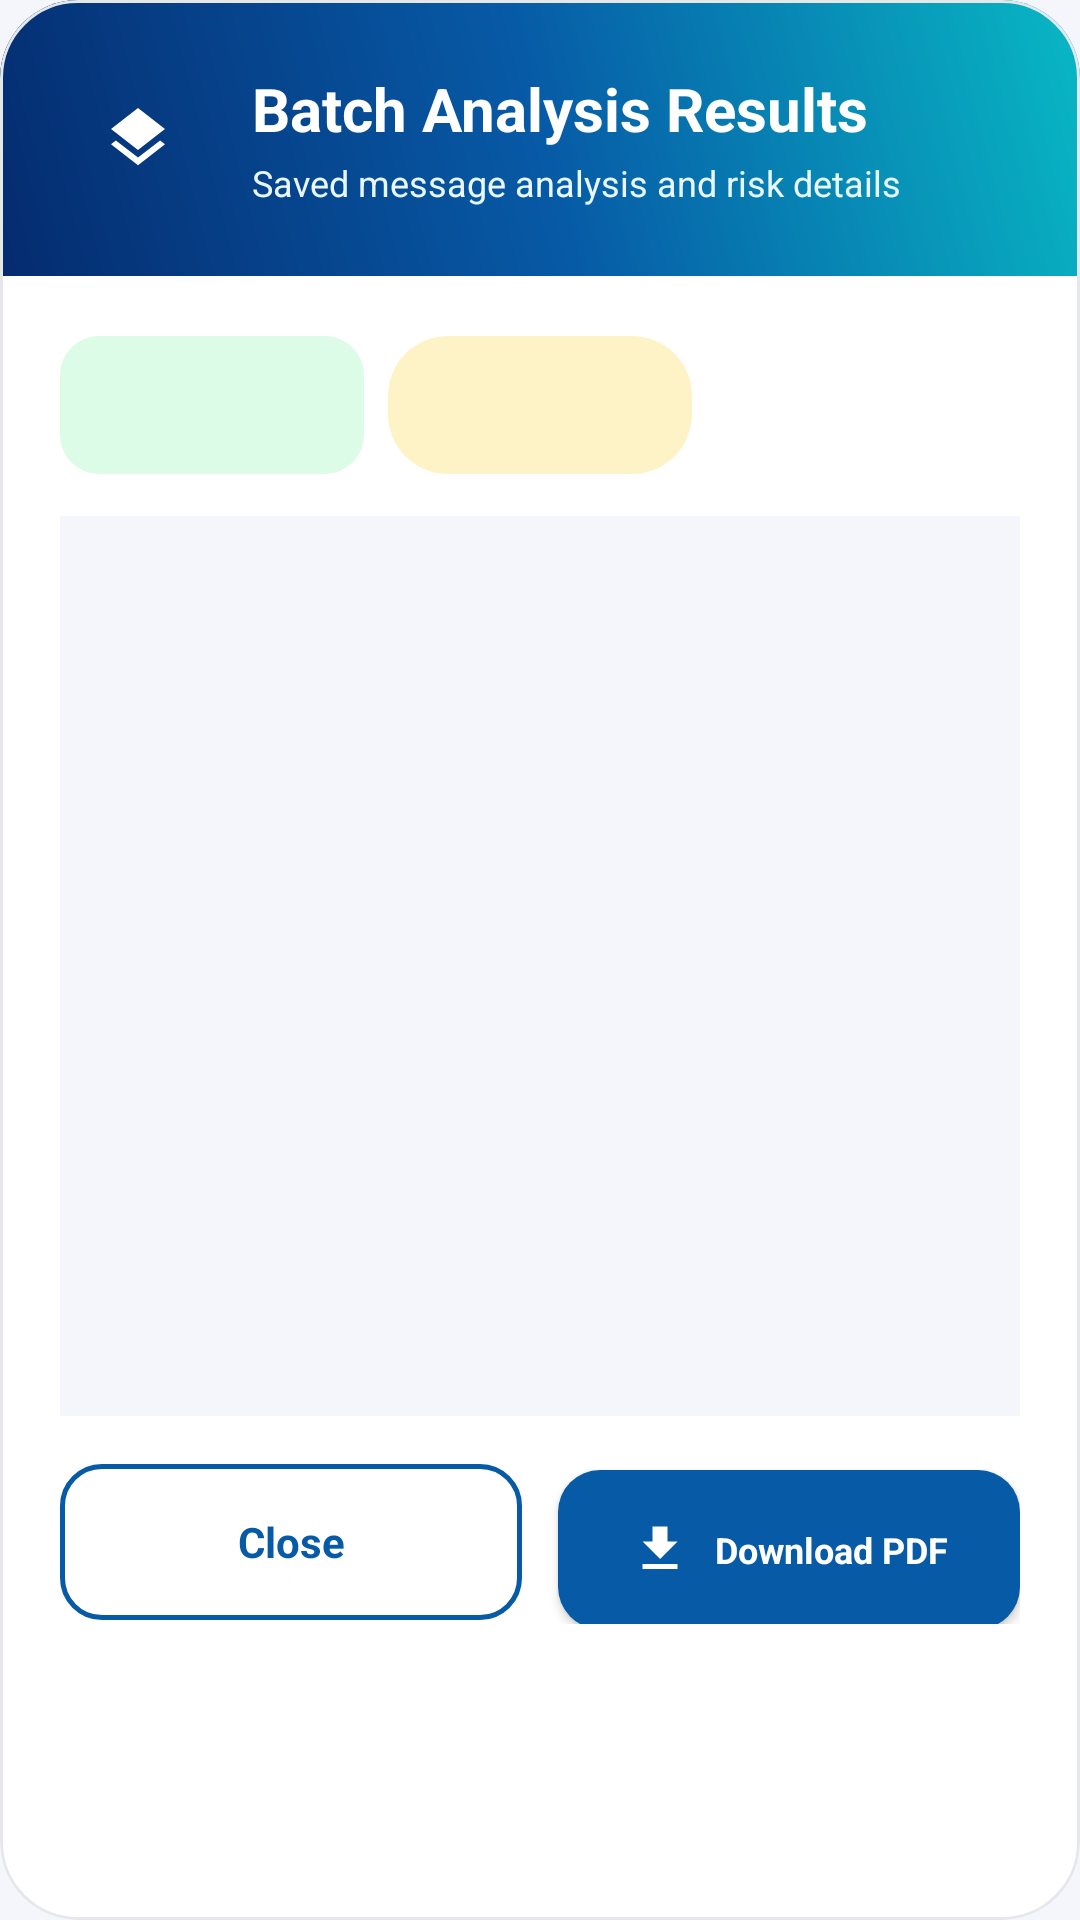

Named icons in this screenshot (1080x1920) and their centers, (x,y):
layers: (138,136)
